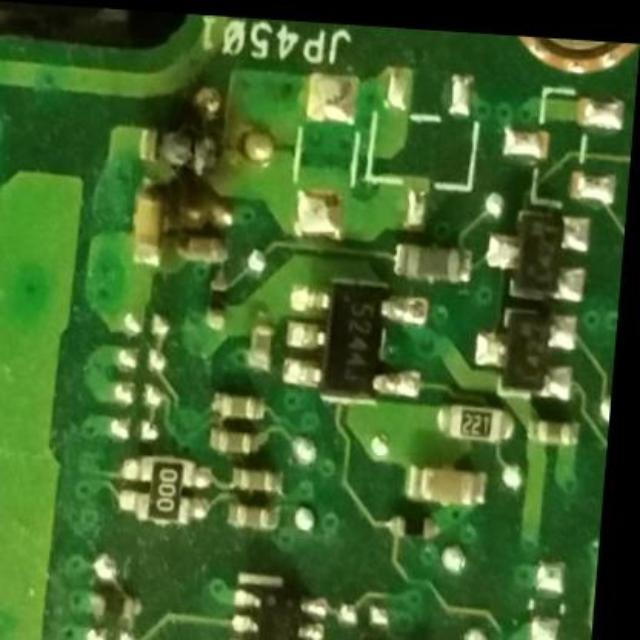PCB: (1, 2, 616, 640)
